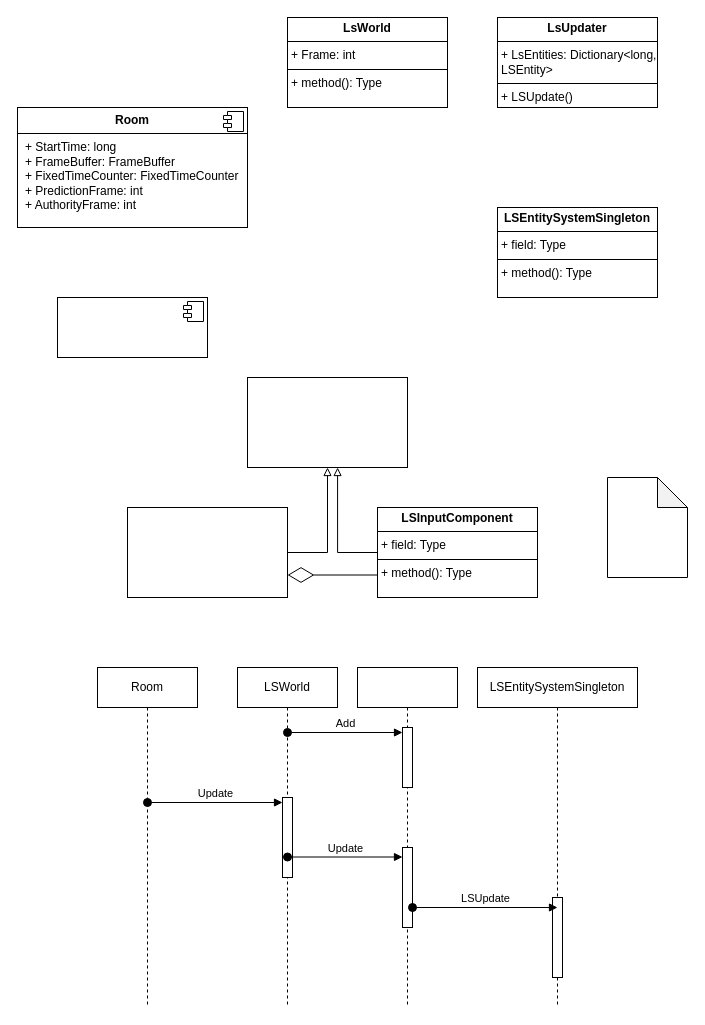
Some shapes in this 705 by 1025 pixel diagram are drawn without their labels. The centre of each missing label's shape, as x and y in pixels:
LSEntity + field: Type + method(): Type: the point at 327,422
LsServerUpdater: the point at 132,327
LSUnit + field: Type + method(): Type: the point at 207,552
LSUpdater: the point at 407,837
